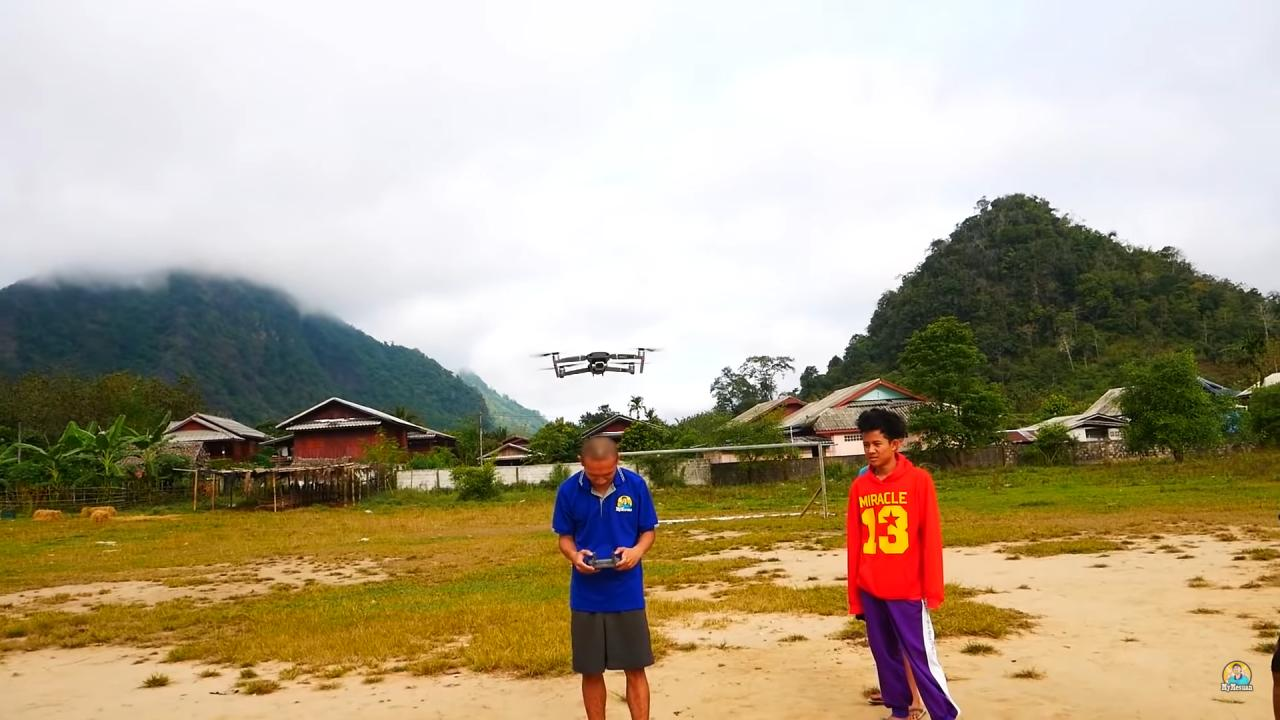Drone: (527, 333, 666, 390)
